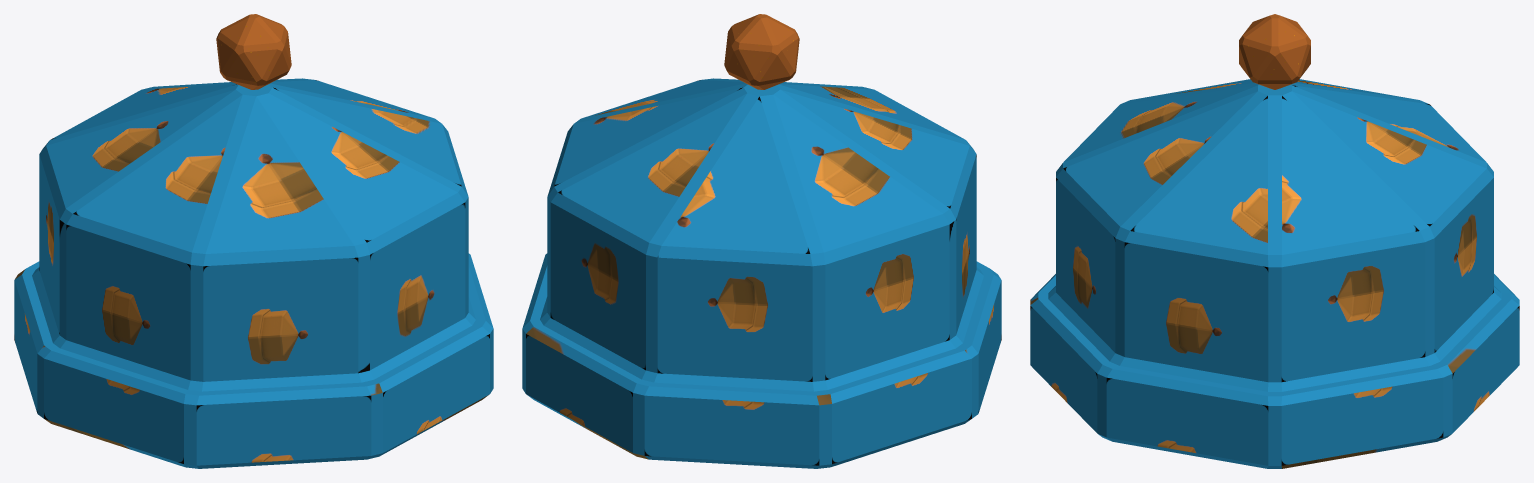
The model's file is beanie.fbx.
3 views of the same model, side by side, from view 1: azimuth 30°, elevation 25°; view 2: azimuth 150°, elevation 25°; view 3: azimuth 270°, elevation 25° (orthographic).
Visible parts, largest first — view 1: Cylinder, Icosphere; view 2: Cylinder, Icosphere; view 3: Cylinder, Icosphere.
Part boxes in pixels (left/top/right/bottom): Cylinder: left=14, top=78, right=493, bottom=468; Icosphere: left=216, top=14, right=291, bottom=89; Cylinder: left=522, top=78, right=1001, bottom=468; Icosphere: left=724, top=14, right=799, bottom=89; Cylinder: left=1030, top=79, right=1519, bottom=468; Icosphere: left=1239, top=14, right=1310, bottom=89.
Bounding box in the file's own units: 221 × 175 × 221.
